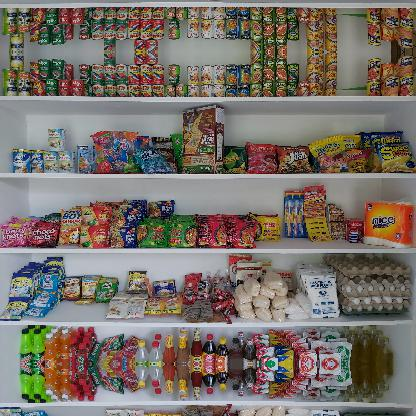Koko-Krunch: (182, 104, 224, 173)
